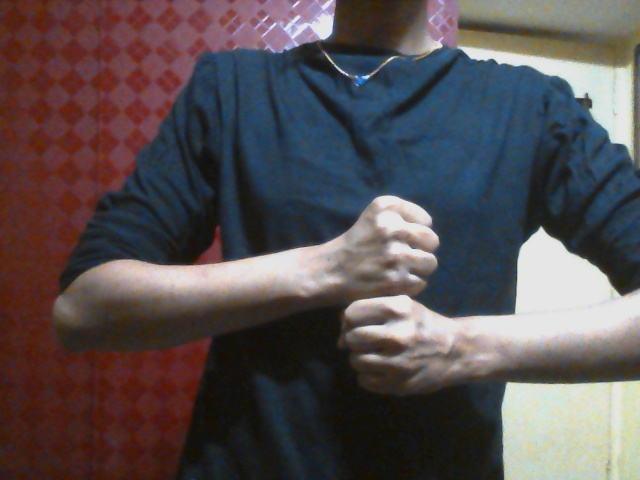G: (336, 192, 444, 398)
